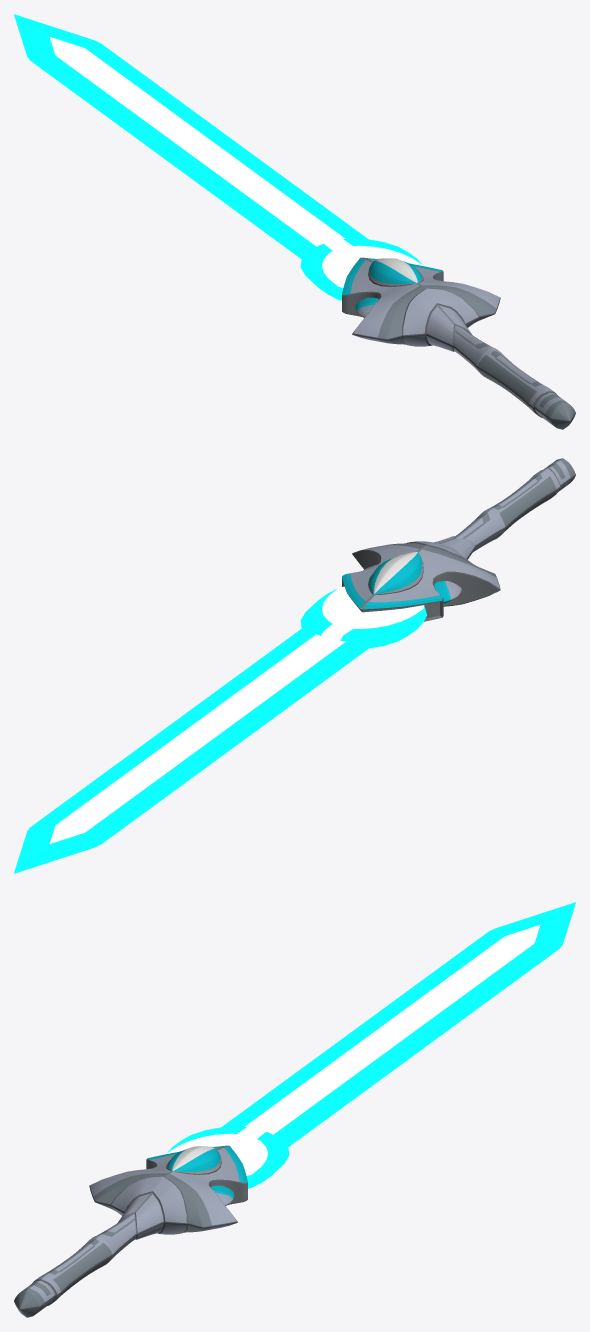
The model's file is sword.glb.
The picture shows the model from 3 angles, top to bottom: view 1: azimuth 30°, elevation 25°; view 2: azimuth 150°, elevation 25°; view 3: azimuth 330°, elevation 25°; orthographic projection.
Parts seen in each view (by area): view 1: Cube.010; view 2: Cube.010; view 3: Cube.010.
Part boxes in pixels (x1,y1,x2,y2): Cube.010: (14,14,575,429); Cube.010: (14,458,575,873); Cube.010: (14,902,575,1317).
Size of the model in its own units: 0.9659 by 0.3956 by 6.25.
